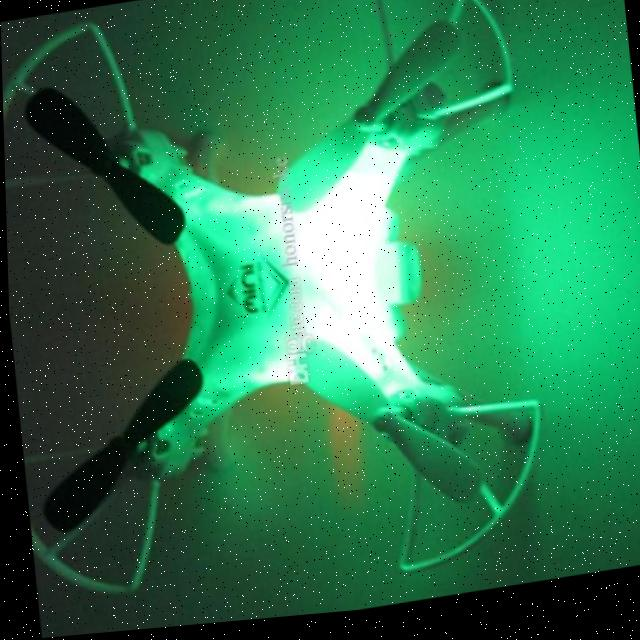drones: (0, 0, 596, 640)
